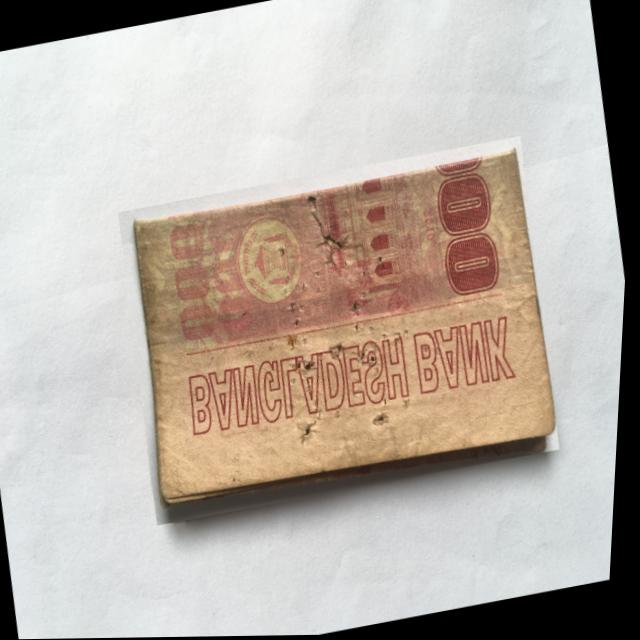Taka: (107, 137, 577, 526)
